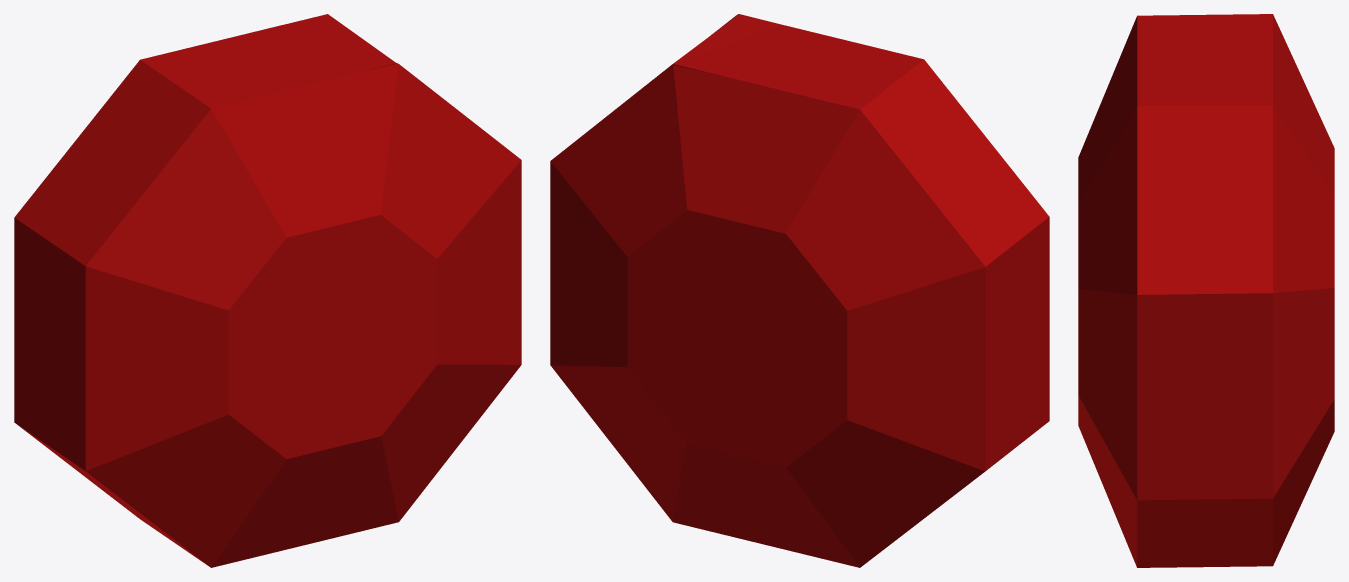
Rendered from gemaBASTET.FBX.
3 renders of one model, left to right at view 1: azimuth 30°, elevation 25°; view 2: azimuth 150°, elevation 25°; view 3: azimuth 270°, elevation 25°, orthographic.
Visible parts, largest first — view 1: Plane003; view 2: Plane003; view 3: Plane003.
Part boxes in pixels (<box>): Plane003: <box>14,14,521,567</box>; Plane003: <box>550,14,1049,567</box>; Plane003: <box>1078,14,1334,567</box>.
Bounding box in the file's own units: 178 × 178 × 89.68.
